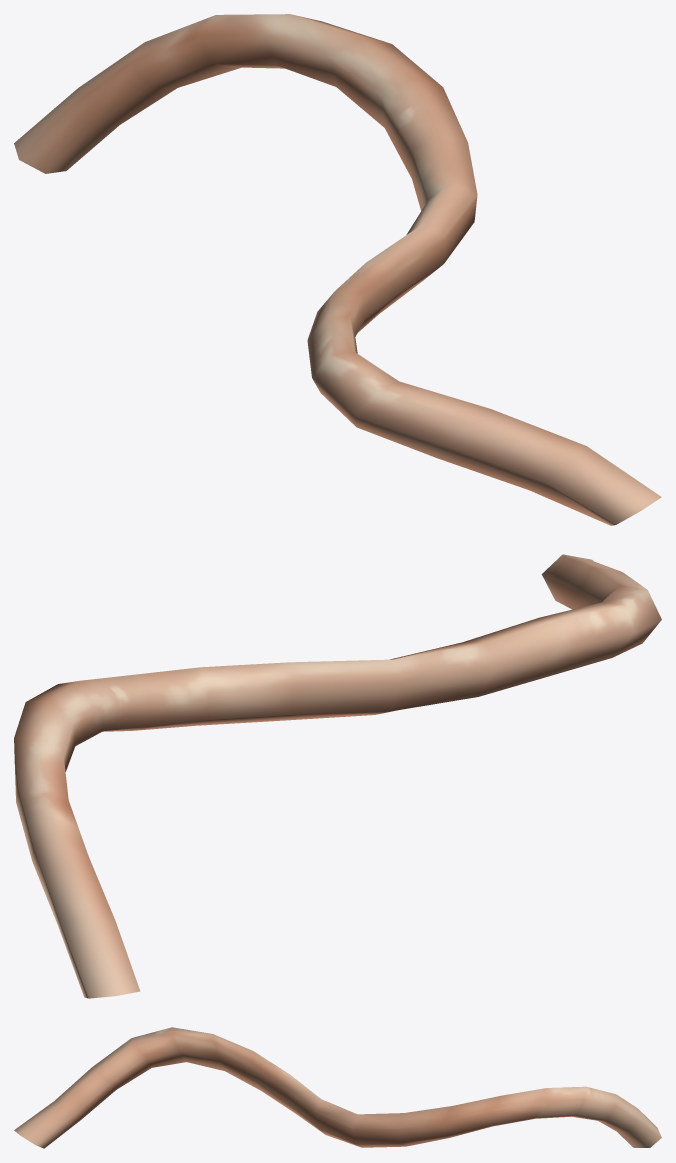
The model's file is ramennoodles_004.fbx.
The picture shows the model from 3 angles, top to bottom: view 1: azimuth 30°, elevation 25°; view 2: azimuth 150°, elevation 25°; view 3: azimuth 270°, elevation 25°; orthographic projection. The views are drawn at different scales.
Parts seen in each view (by area): view 1: ramennoodles.004; view 2: ramennoodles.004; view 3: ramennoodles.004.
Boxes of the visible parts, x1,y1,x2,y2 form: ramennoodles.004: (14,14,661,525); ramennoodles.004: (14,554,661,998); ramennoodles.004: (14,1027,661,1148).
Size of the model in its own units: 6.72 by 3.1 by 17.98.
